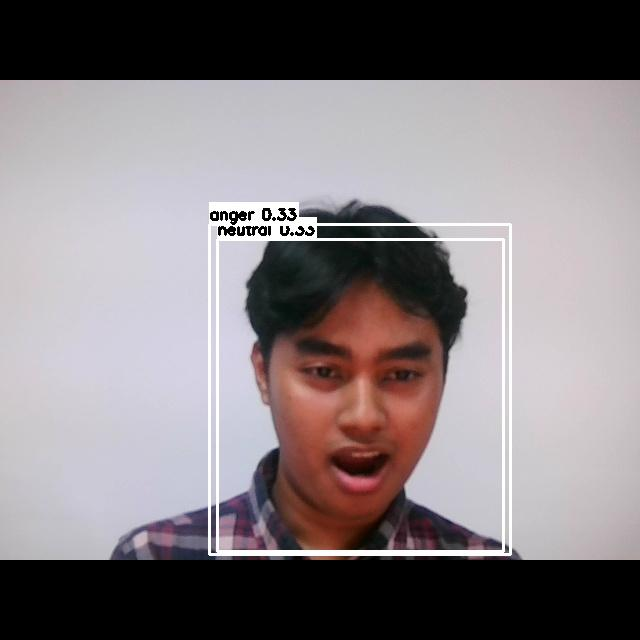Surprised: (270, 311, 437, 515)
